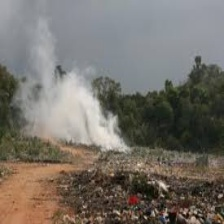smoke: (14, 50, 127, 151)
